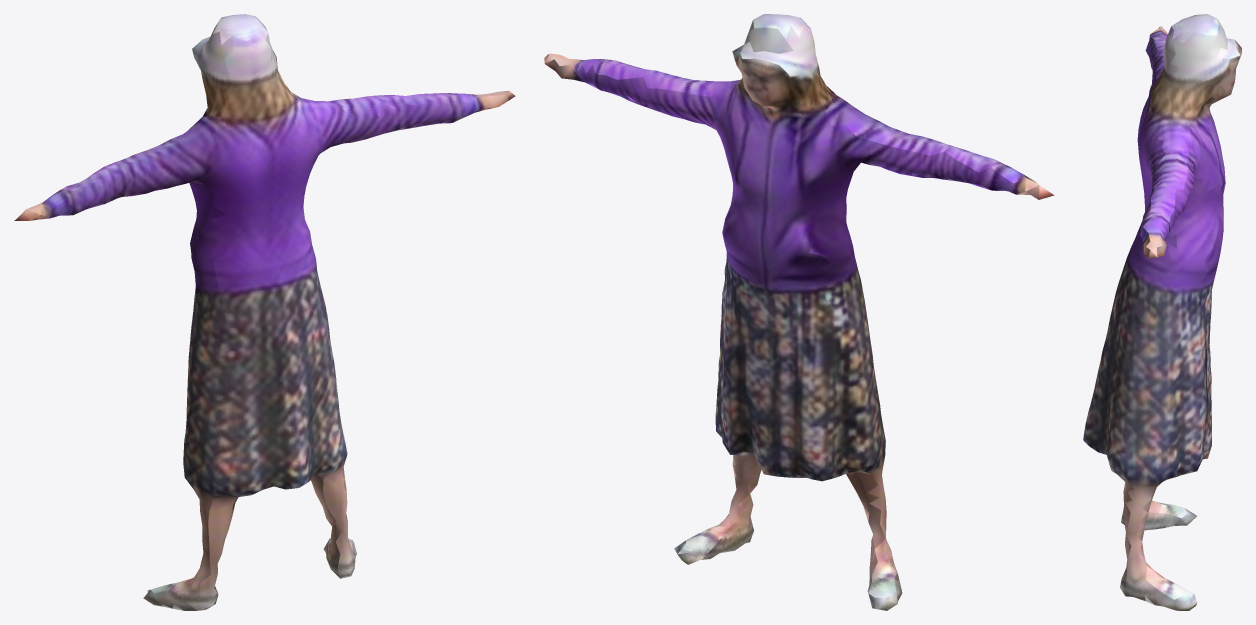
3 renders of one model, left to right at view 1: azimuth 30°, elevation 25°; view 2: azimuth 150°, elevation 25°; view 3: azimuth 270°, elevation 25°, orthographic. The views are drawn at different scales.
Parts seen in each view (by area): view 1: world; view 2: world; view 3: world.
Boxes of the visible parts, <box> form: world: <box>14,14,515,610</box>; world: <box>544,14,1054,610</box>; world: <box>1083,14,1241,610</box>.
Bounding box in the file's own units: 0.8918 × 0.9517 × 0.2504.
Materials: 1 (1 with a texture image).
